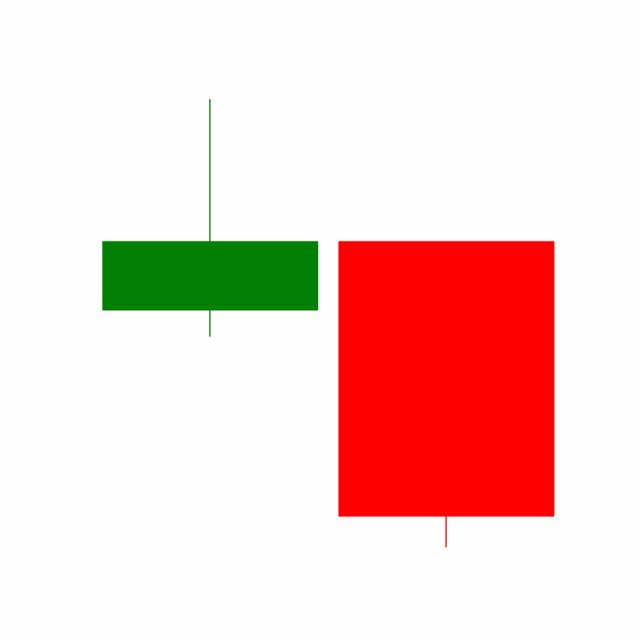Marubozu: (327, 238, 565, 550)
